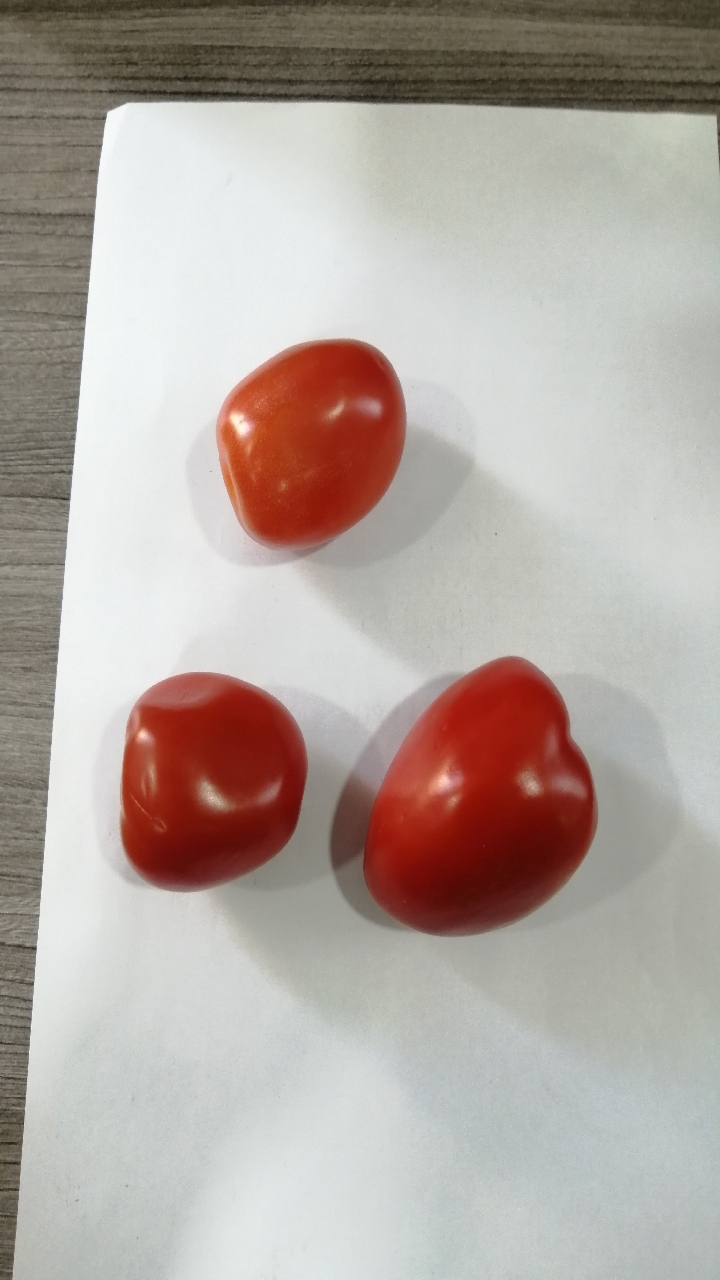tomateRojo: (349, 645, 617, 965), (177, 300, 421, 575), (91, 646, 323, 925)
